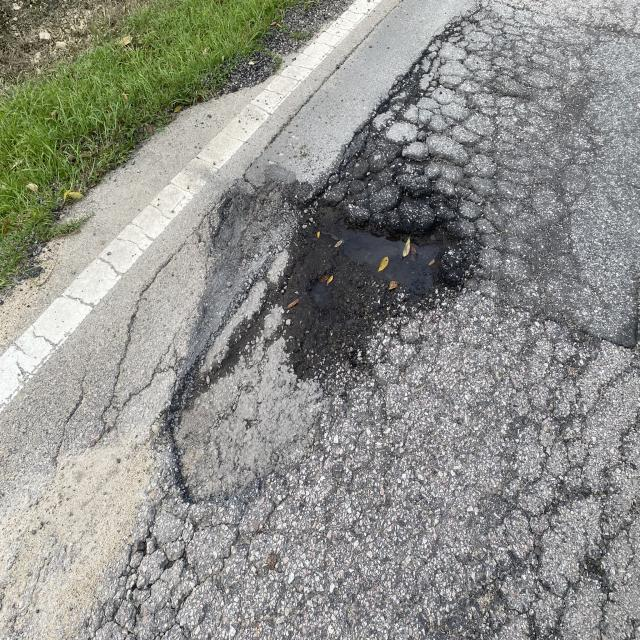pothole: (182, 138, 515, 461)
